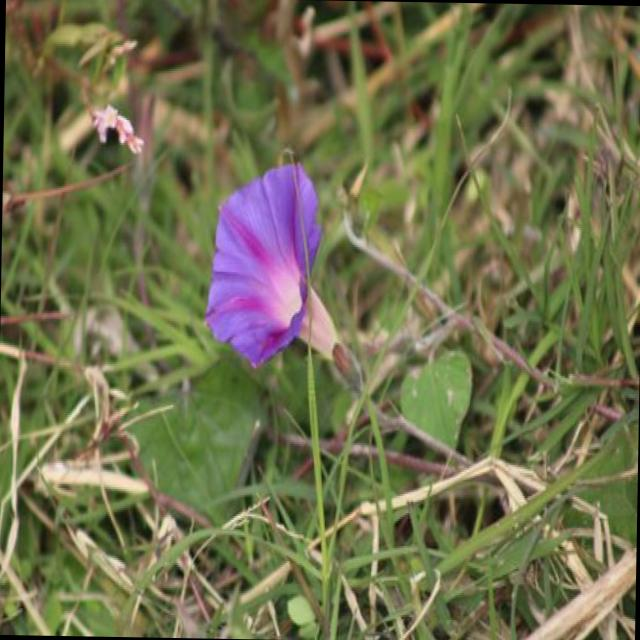ipomoea: (200, 152, 346, 376), (86, 98, 148, 160)
